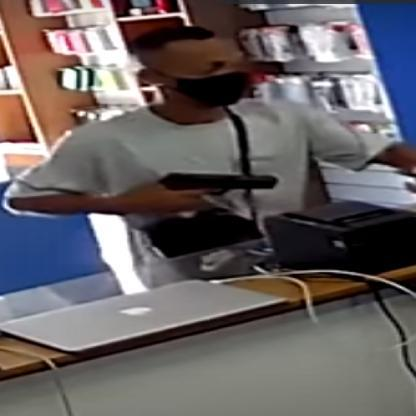criminal: (1, 23, 416, 267)
weapon: (154, 170, 283, 200)
